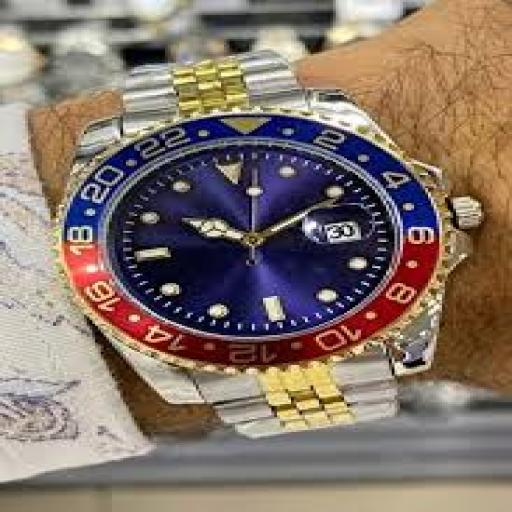KolSaati: (36, 44, 498, 458)
